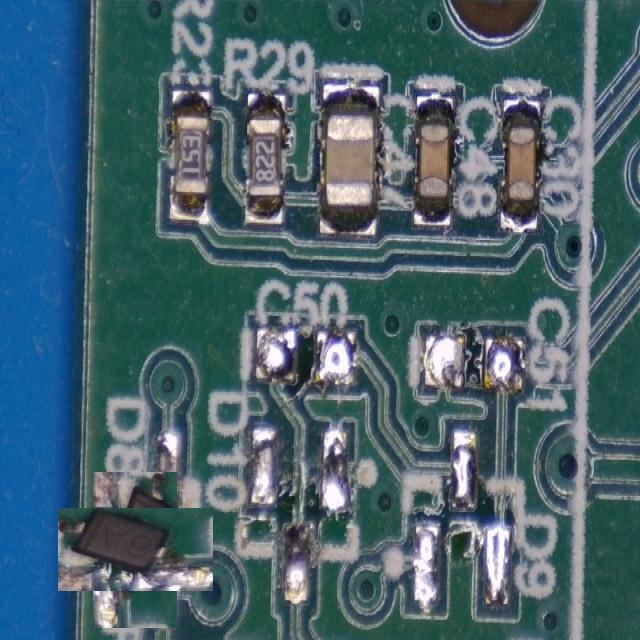Incorrect_installation: (58, 509, 213, 590)
